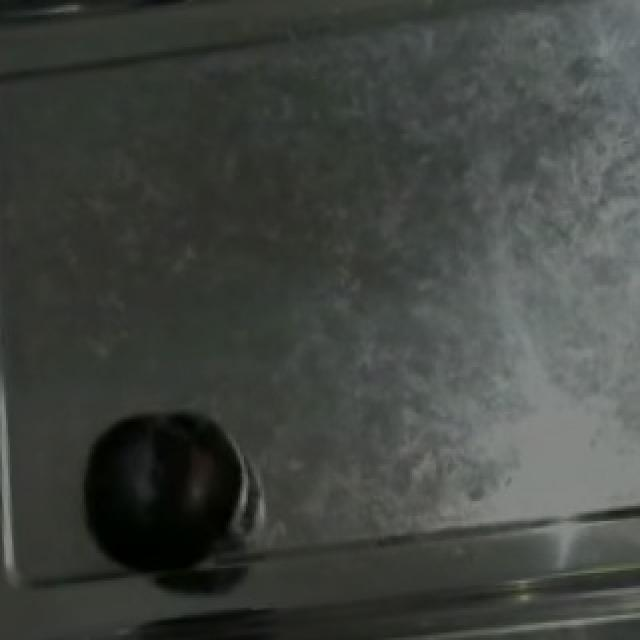Fruit: (74, 402, 254, 585)
